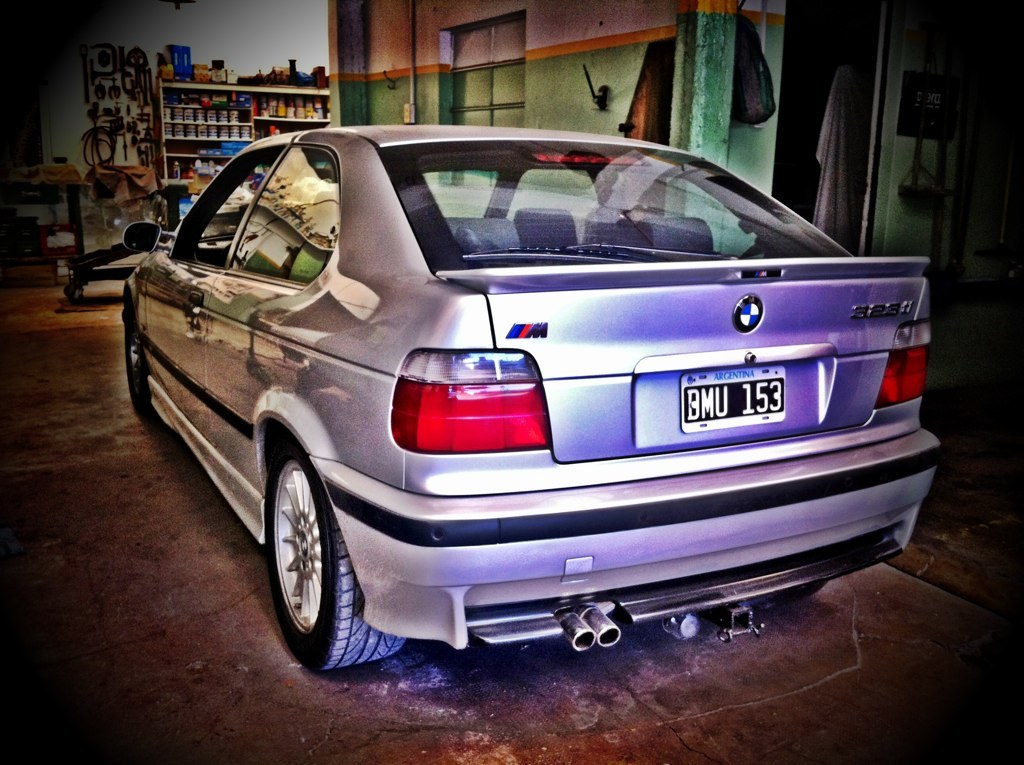Car: (94, 116, 960, 675)
